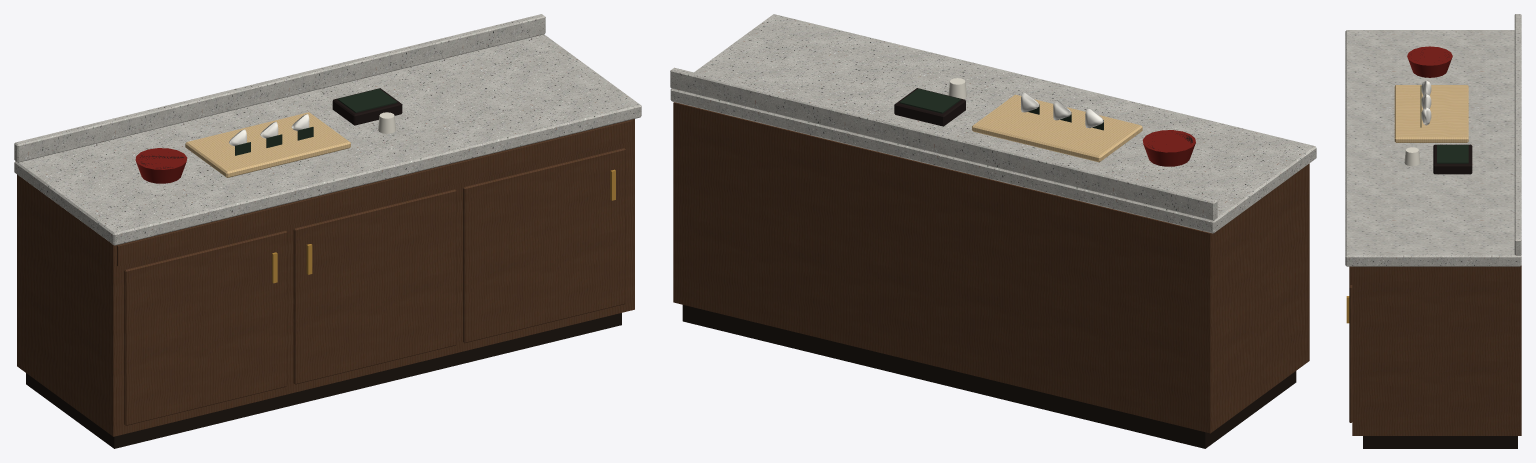
File: prepcounter.glb
3 renders of one model, left to right at view 1: azimuth 30°, elevation 25°; view 2: azimuth 150°, elevation 25°; view 3: azimuth 270°, elevation 25°, orthographic. The views are drawn at different scales.
Parts seen in each view (by area): view 1: PrepBody, PrepSet; view 2: PrepBody, PrepSet; view 3: PrepBody, PrepSet.
Part boxes in pixels (bbox=[...]): PrepBody: bbox=[14, 14, 641, 448]; PrepSet: bbox=[135, 88, 402, 183]; PrepBody: bbox=[670, 14, 1316, 448]; PrepSet: bbox=[894, 78, 1195, 166]; PrepBody: bbox=[1345, 14, 1521, 448]; PrepSet: bbox=[1394, 46, 1472, 174].
Size of the model in its own units: 3.04 by 1.39 by 1.
11 materials, 3 textured.
